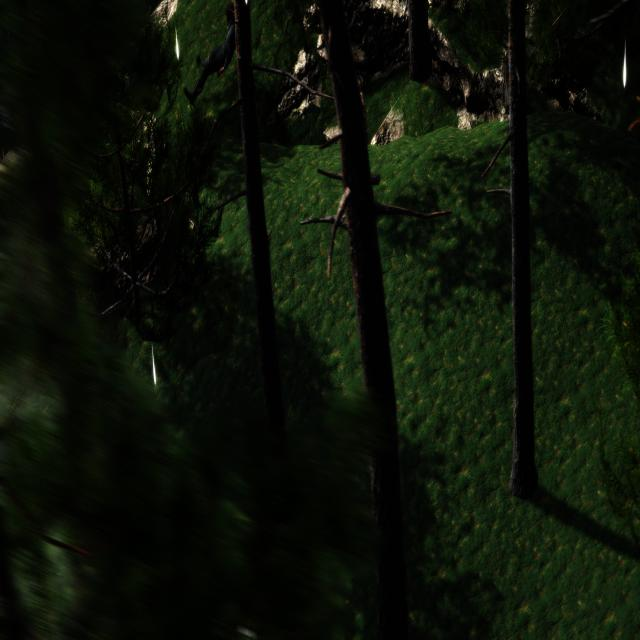Human: (184, 5, 238, 110)
